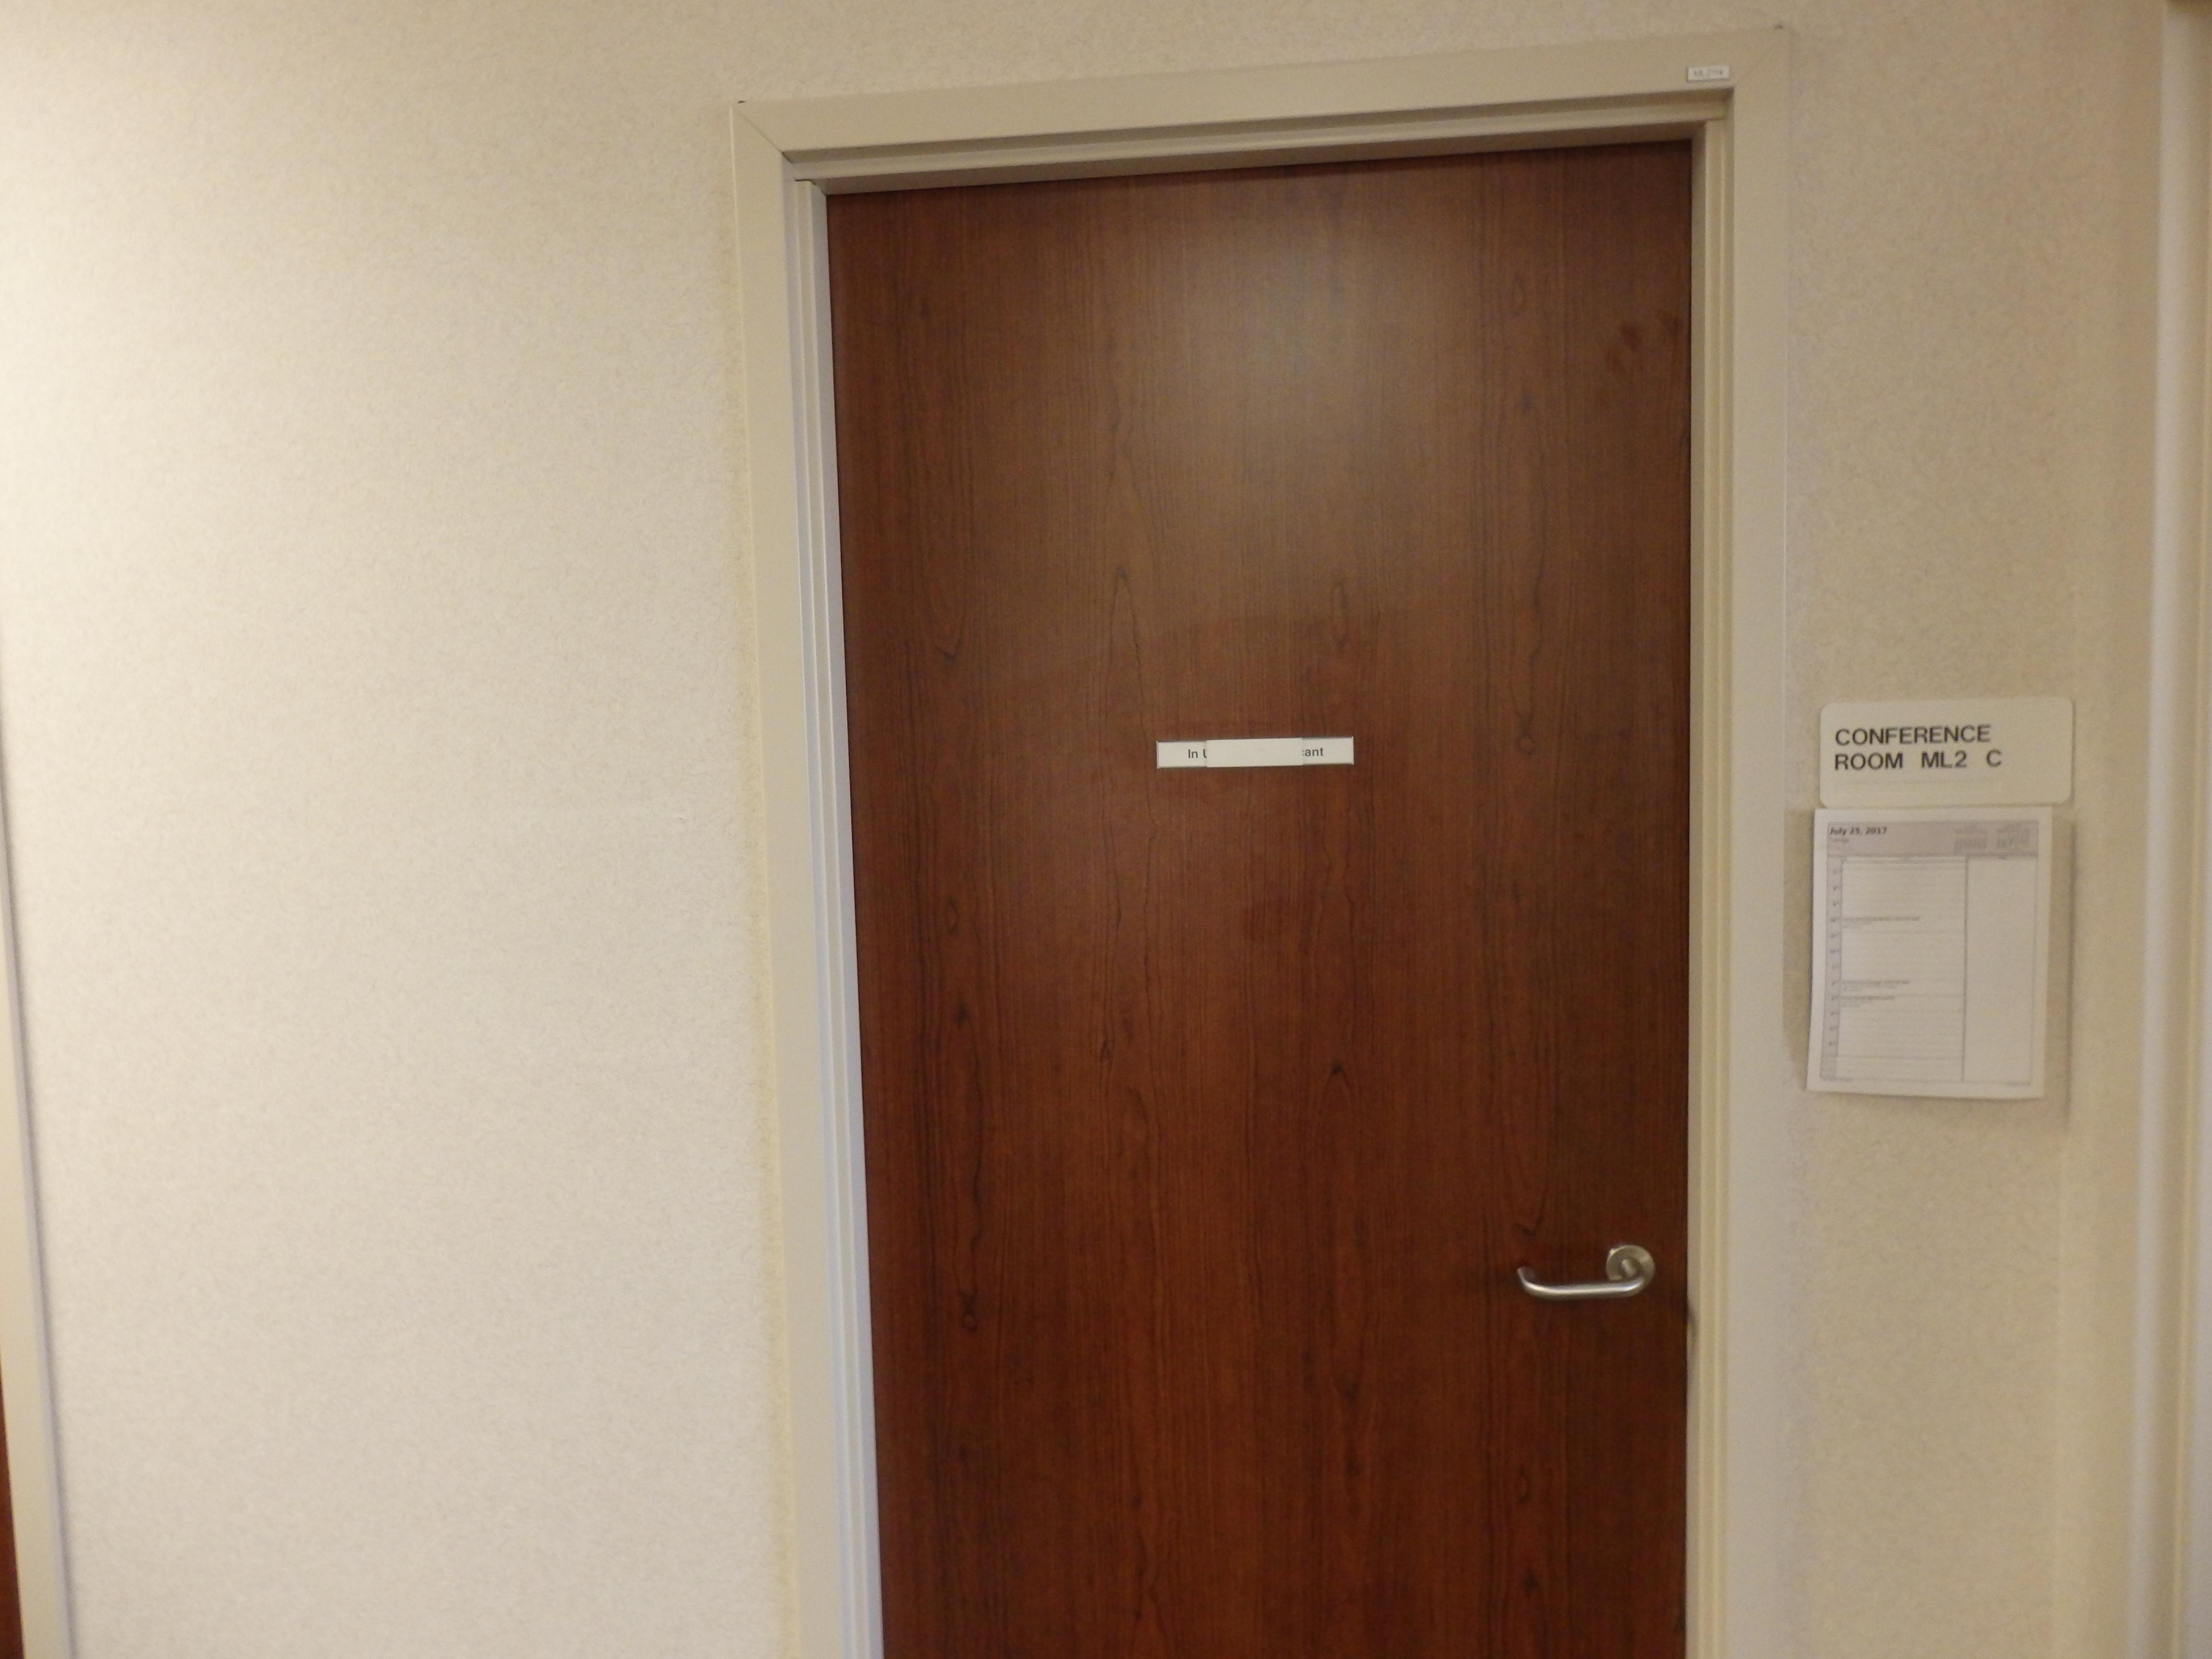door: (810, 87, 1752, 1657)
